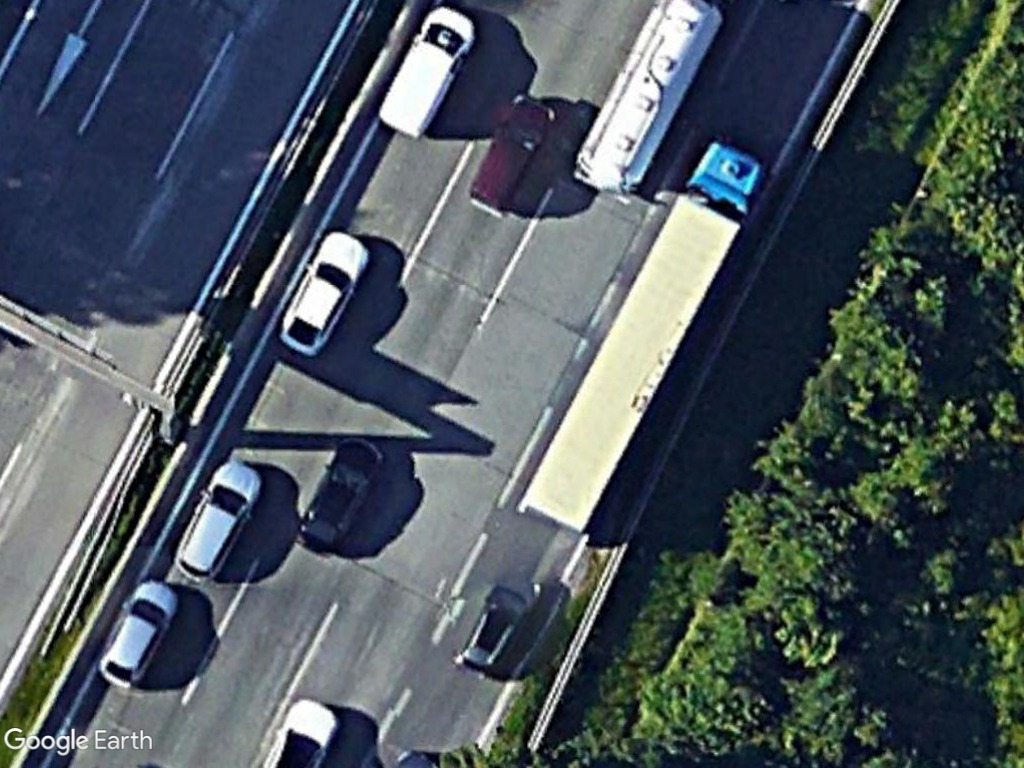car: (273, 226, 375, 359), (169, 451, 267, 585), (463, 90, 562, 221), (292, 432, 390, 556), (94, 572, 181, 693)
longvehicle: (515, 141, 768, 540)
van: (368, 1, 481, 144)
